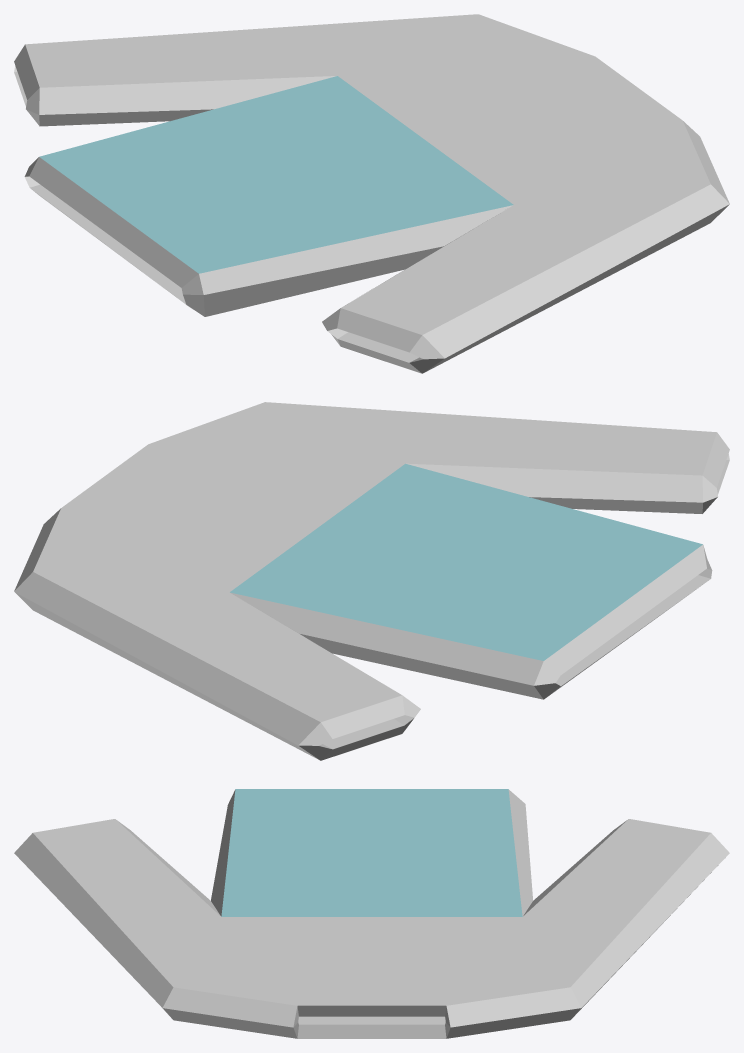
The model's file is sweater.fbx.
The picture shows the model from 3 angles, top to bottom: view 1: azimuth 30°, elevation 25°; view 2: azimuth 150°, elevation 25°; view 3: azimuth 270°, elevation 25°; orthographic projection. The views are drawn at different scales.
Parts seen in each view (by area): view 1: Sweater; view 2: Sweater; view 3: Sweater.
Part boxes in pixels (x1=…): Sweater: x1=14, y1=14, x2=729, y2=373; Sweater: x1=14, y1=402, x2=729, y2=760; Sweater: x1=14, y1=789, x2=729, y2=1038.
Size of the model in its own units: 2.95 by 0.2026 by 3.91.
